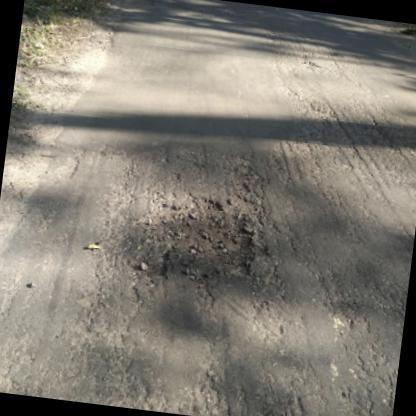pothole: (134, 190, 271, 286)
